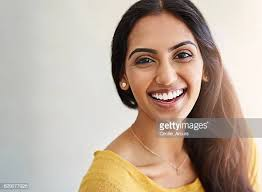indian_female: (104, 1, 240, 131)
